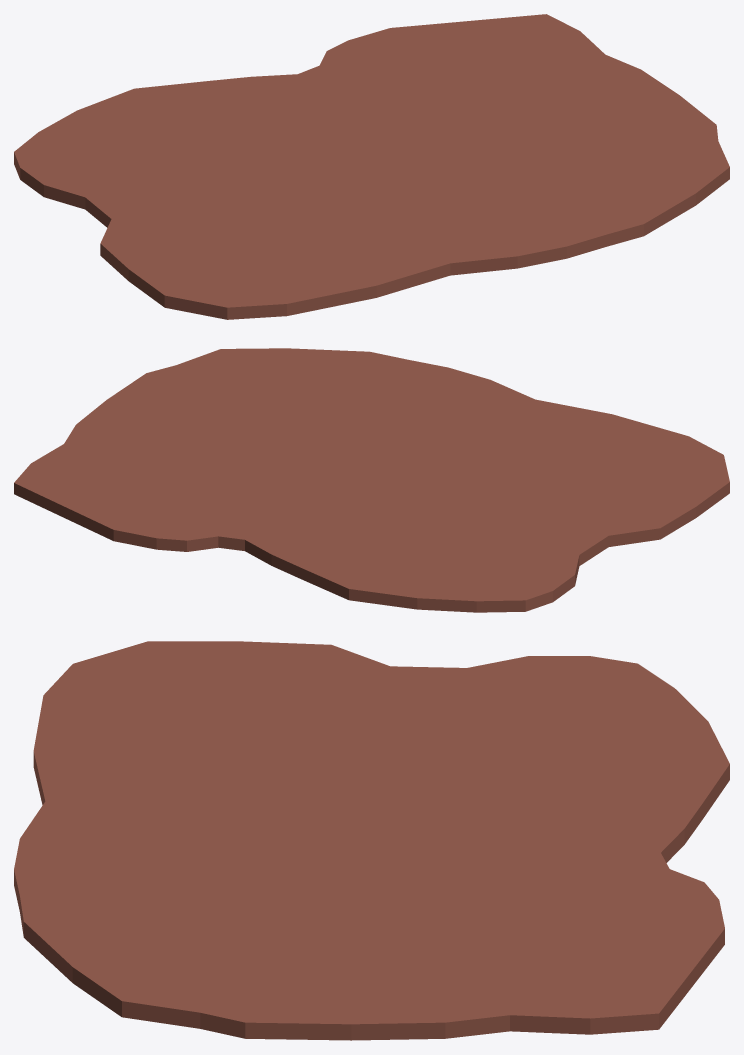
The model's file is Sand 7.FBX.
3 views of the same model, one above another, from view 1: azimuth 30°, elevation 25°; view 2: azimuth 150°, elevation 25°; view 3: azimuth 270°, elevation 25° (orthographic). The views are drawn at different scales.
Visible parts, largest first — view 1: Plane001; view 2: Plane001; view 3: Plane001.
Boxes of the visible parts, x1,y1,x2,y2 form: Plane001: (14, 14, 729, 319); Plane001: (14, 348, 729, 612); Plane001: (14, 641, 729, 1040).
Bounding box in the file's own units: 126 × 2.49 × 99.66.
